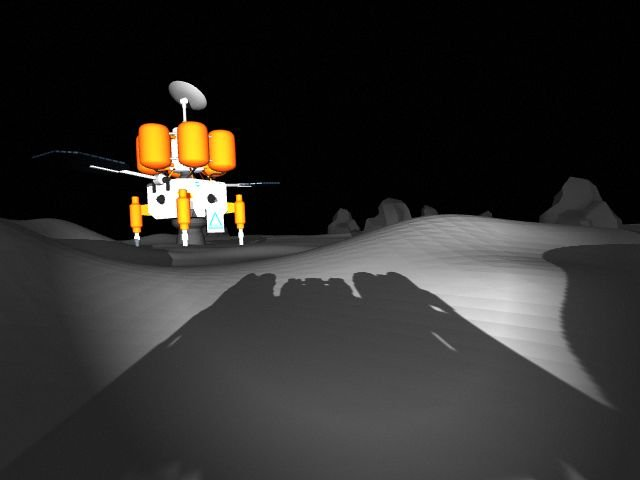homebase: (29, 77, 291, 254)
